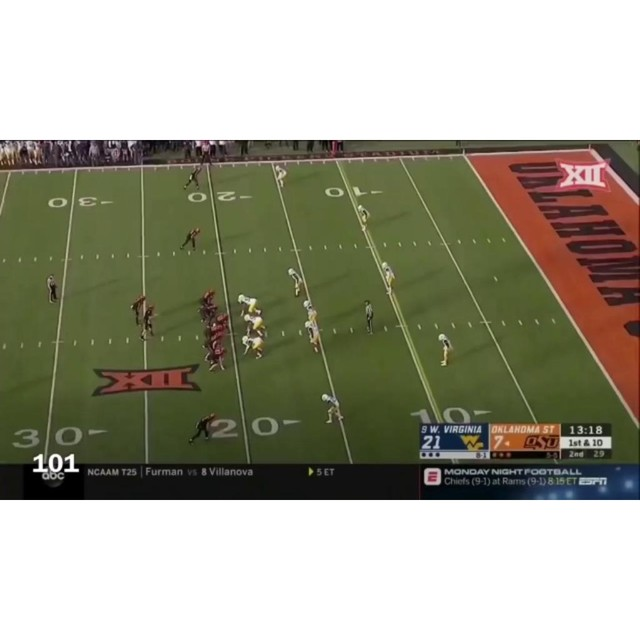american-football-player: (188, 412, 217, 446), (242, 325, 267, 360), (321, 393, 344, 424), (237, 294, 263, 320), (139, 304, 157, 341), (207, 340, 226, 372), (130, 293, 147, 326), (305, 319, 321, 354), (438, 334, 453, 367), (181, 228, 201, 251), (183, 165, 201, 190), (287, 268, 302, 298), (383, 261, 396, 295), (275, 163, 287, 187), (359, 205, 370, 230)
referee: (363, 299, 374, 335), (46, 272, 58, 303)
